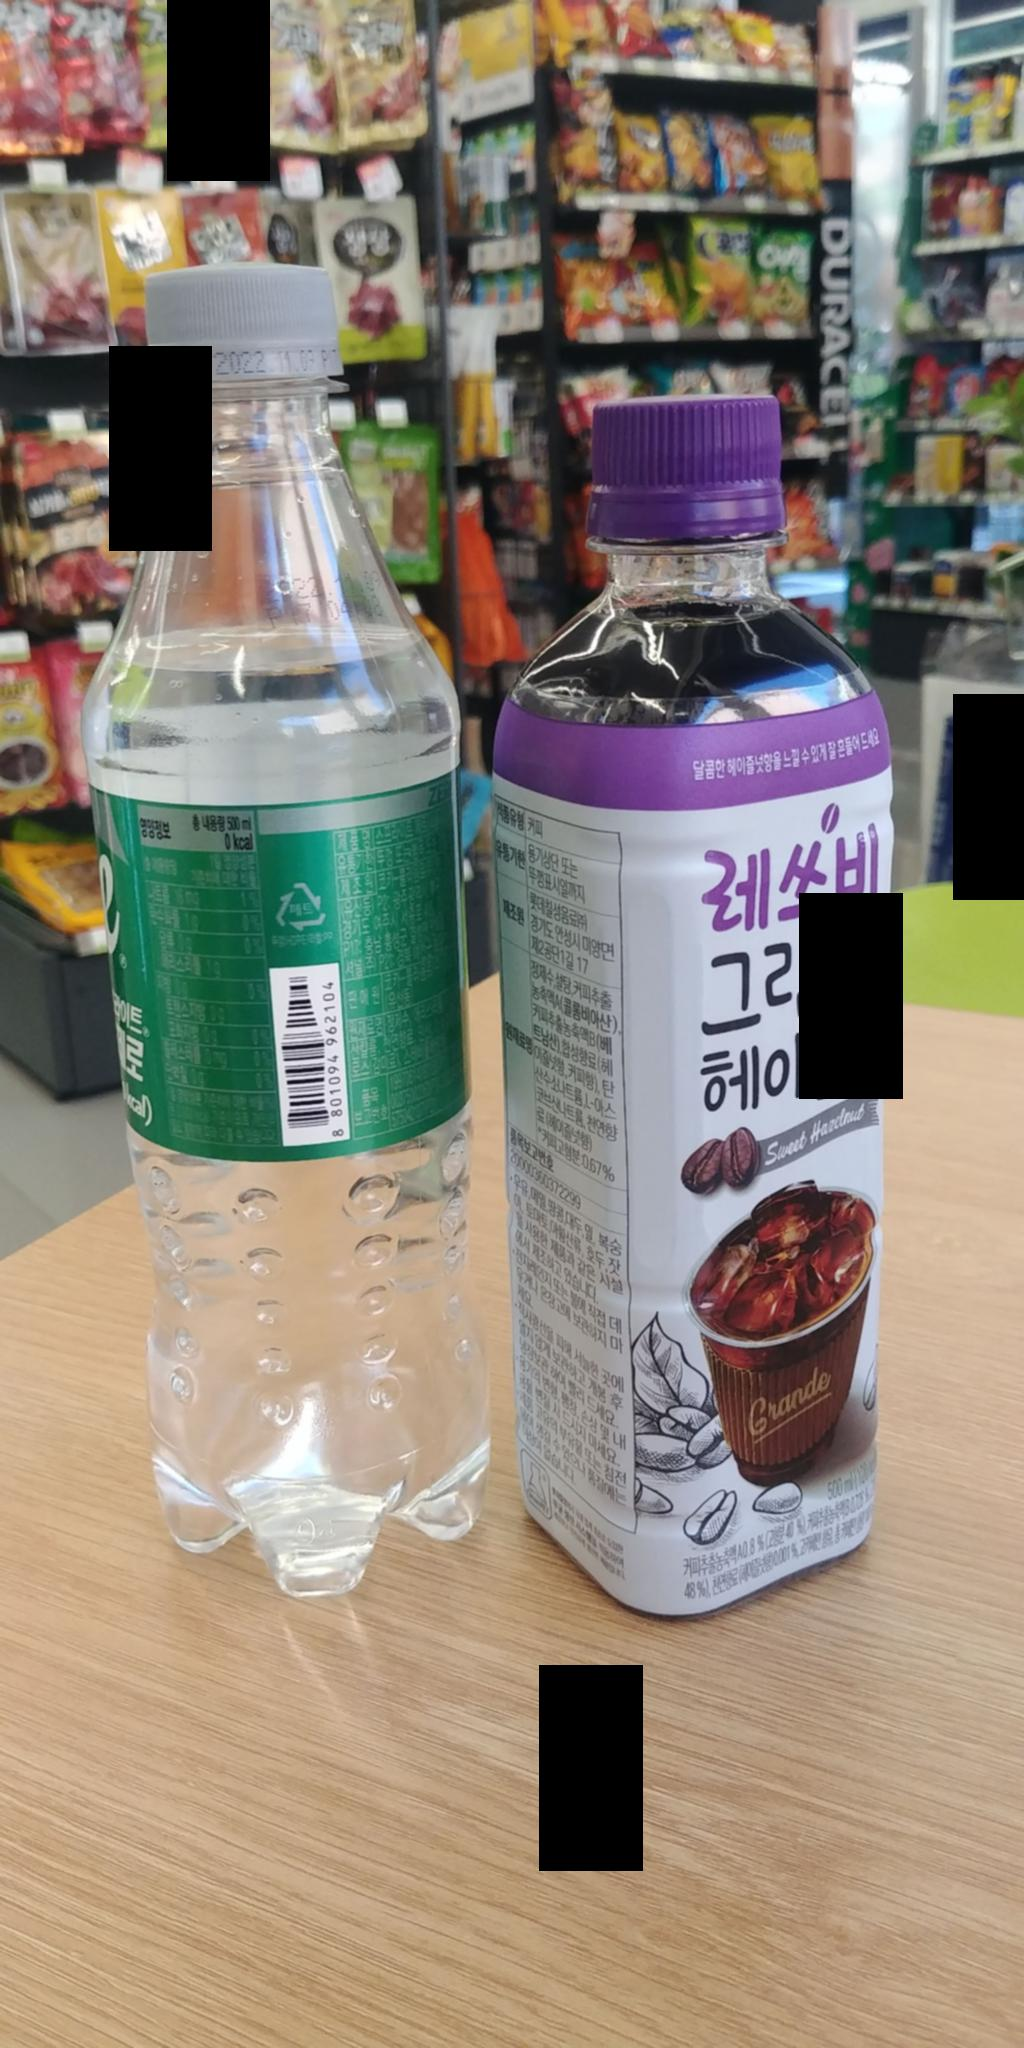letsbe_grande_hazelnut: (474, 375, 905, 1627)
sprite_zero: (51, 251, 507, 1605)
